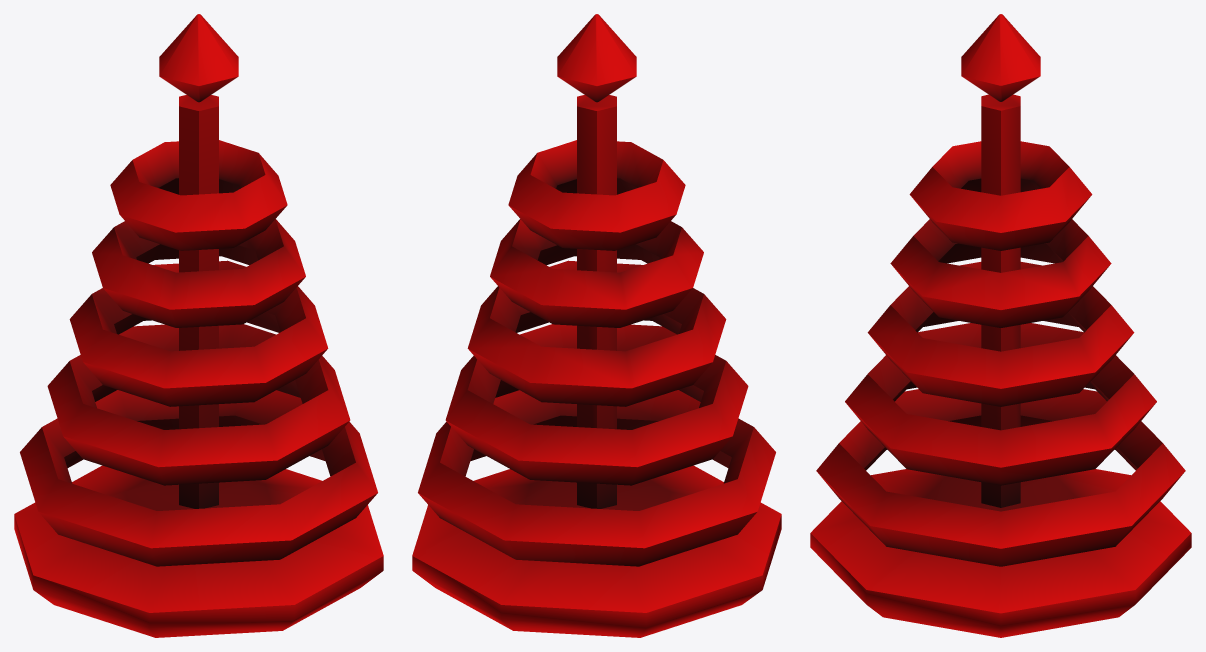
File: CI_Kids_StackingRings.glb
3 renders of one model, left to right at view 1: azimuth 30°, elevation 25°; view 2: azimuth 150°, elevation 25°; view 3: azimuth 270°, elevation 25°, orthographic.
Visible parts, largest first — view 1: CI_Kids_StackingRings; view 2: CI_Kids_StackingRings; view 3: CI_Kids_StackingRings.
Part boxes in pixels (box(x1,y1,x2,y2)): CI_Kids_StackingRings: box(14, 14, 383, 637); CI_Kids_StackingRings: box(412, 14, 781, 637); CI_Kids_StackingRings: box(810, 14, 1191, 637).
Size of the model in its own units: 0.2 by 0.32 by 0.2.
